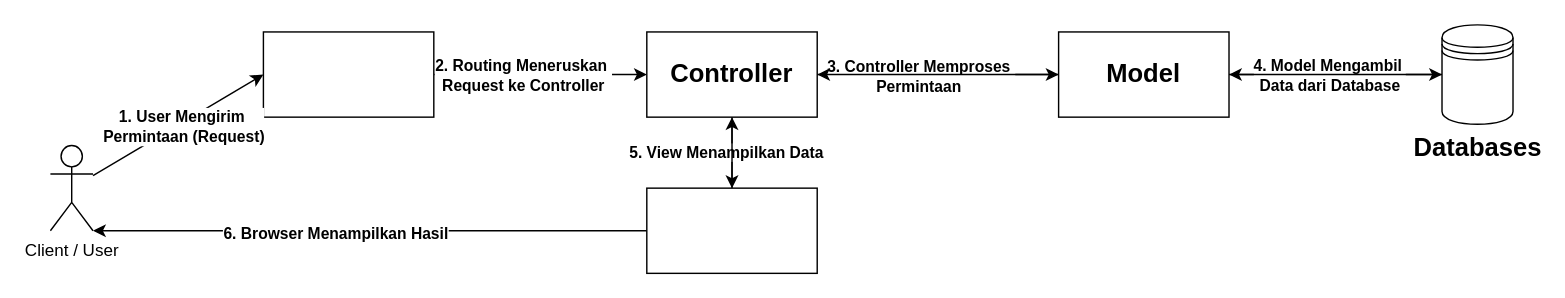
The diagram is 1565 pixels wide and 298 high, and some of its shapes have lost their labels. Here are the shapes that lost their labels. From the top down, the box of each, then its label:
(262, 31, 434, 117): Routes
(645, 187, 817, 273): Views
